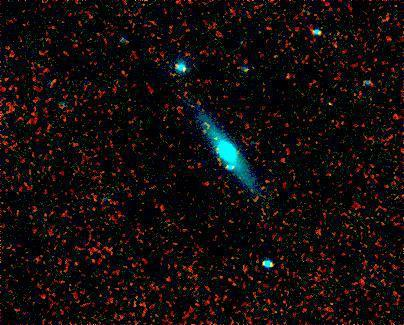star: (218, 157, 248, 187)
